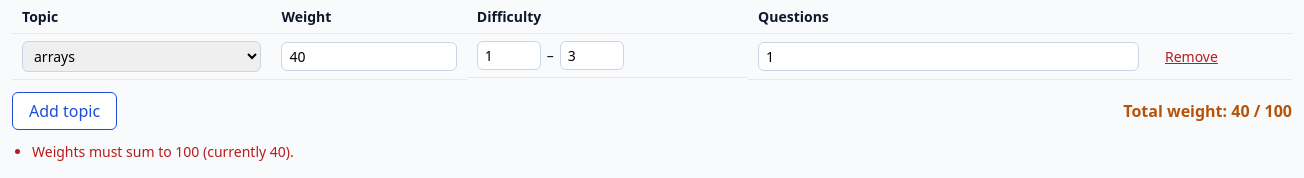
Test: TopicMixEditor › shows the running total and flags it until it reaches 100
Expected: the text with test id "weight-total" reads "Total weight: 40 / 100", left=1123, top=100, right=1292, bottom=122
Expected: the message shows "sum to 100", left=32, top=142, right=294, bottom=161
Replace the text in the number field named "Weight for row 1" with "100" at (369, 56), box left=281, top=42, right=457, bottom=71
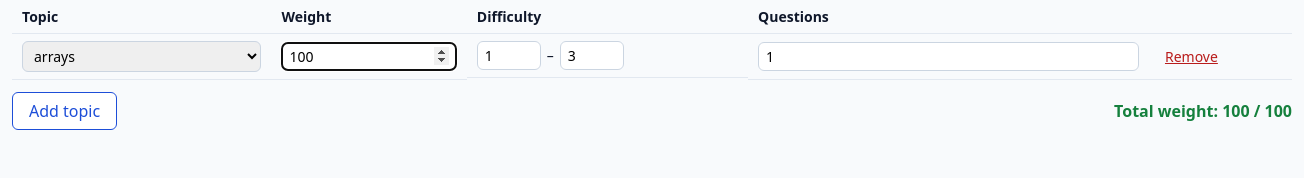
Expected: the text with test id "weight-total" reads "Total weight: 100 / 100", left=1114, top=100, right=1292, bottom=122
Expected: the message "Weights must sum to 100 (currently 0)." is gone
